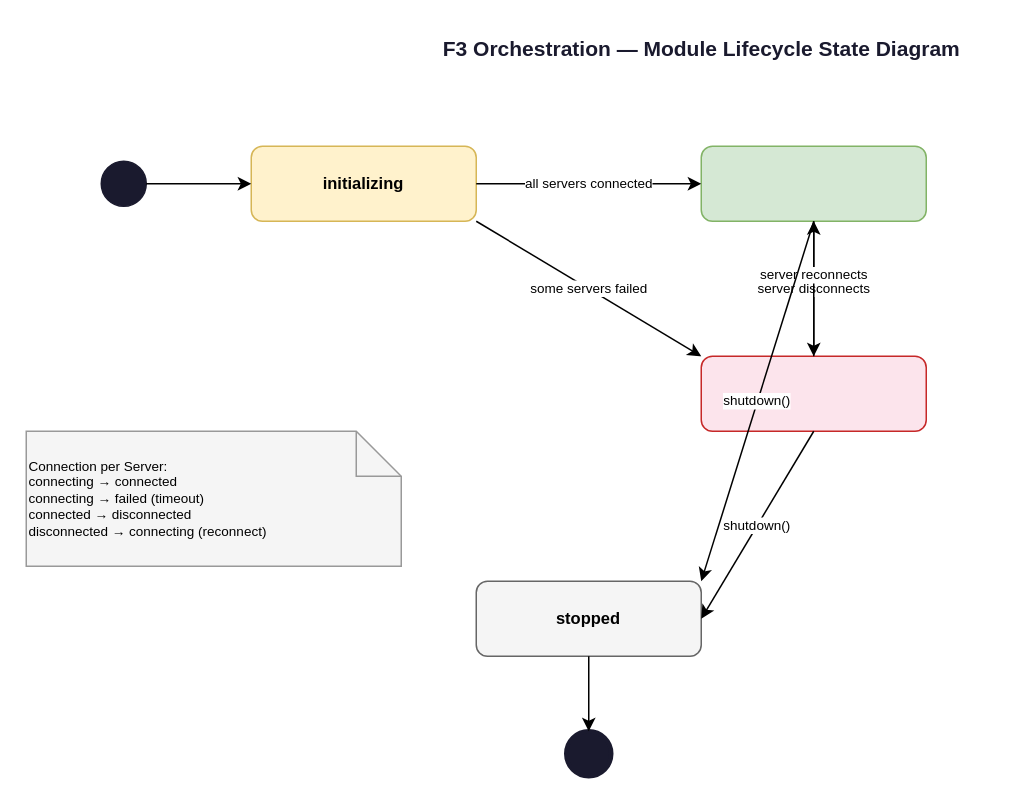
Some shapes in this 1028 by 804 pixel diagram are drawn without their labels. Here are the shapes that lost their labels. From the top down, the centre of each, then its label:
At point 813,183: "ready".
At point 813,393: "degraded".
